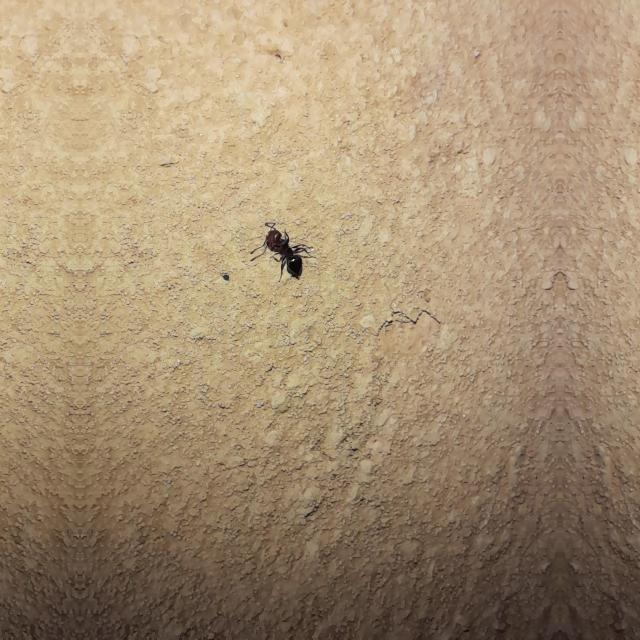Crematogaster: (260, 220, 308, 282)
